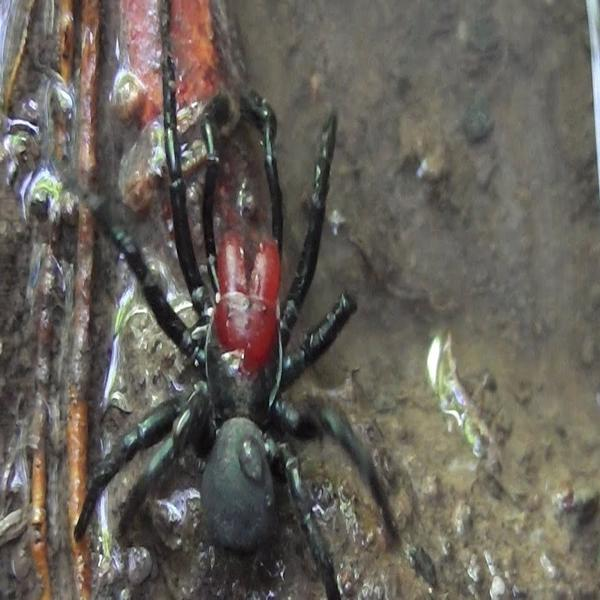Red Headed Mouse Spider: (96, 30, 397, 600)
